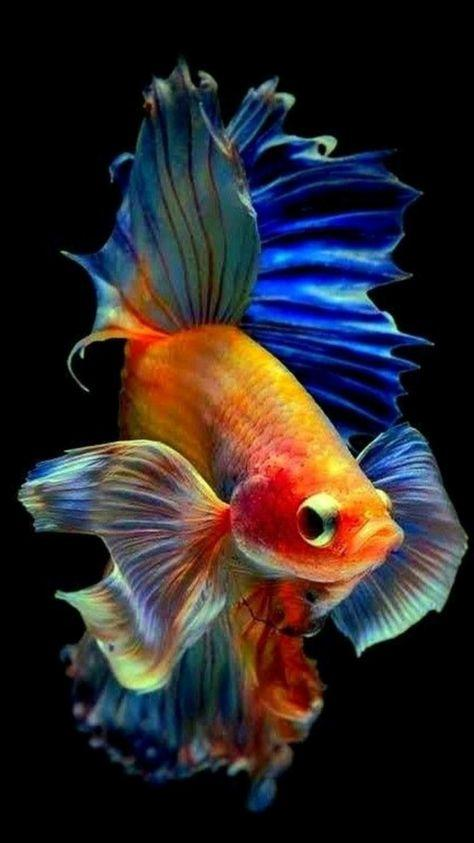goldfish: (55, 125, 439, 780)
